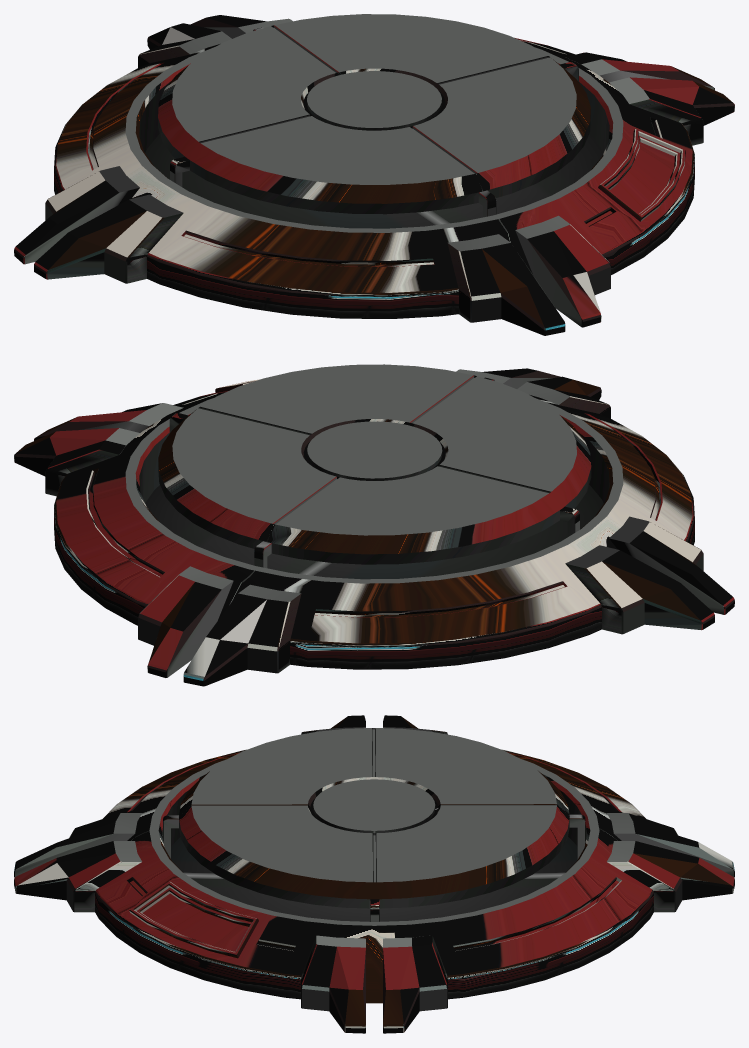
Rendered from button.fbx.
3 renders of one model, top to bottom at view 1: azimuth 30°, elevation 25°; view 2: azimuth 150°, elevation 25°; view 3: azimuth 270°, elevation 25°, orthographic. The views are drawn at different scales.
Parts seen in each view (by area): view 1: g0; view 2: g0; view 3: g0.
Boxes of the visible parts, x1,y1,x2,y2 form: g0: (14,14,734,335); g0: (14,364,734,686); g0: (14,715,734,1033).
Bounding box in the file's own units: 117 × 13.64 × 117.
1 material, 1 textured.
